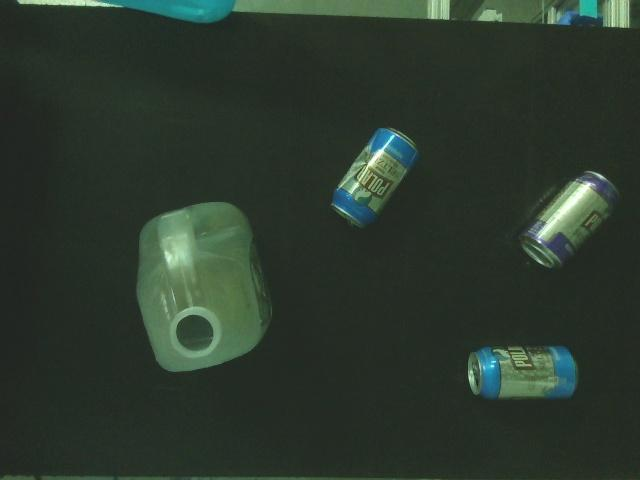metal: (515, 166, 628, 278), (327, 122, 424, 234), (465, 338, 585, 409)
plastic: (133, 199, 276, 374)
